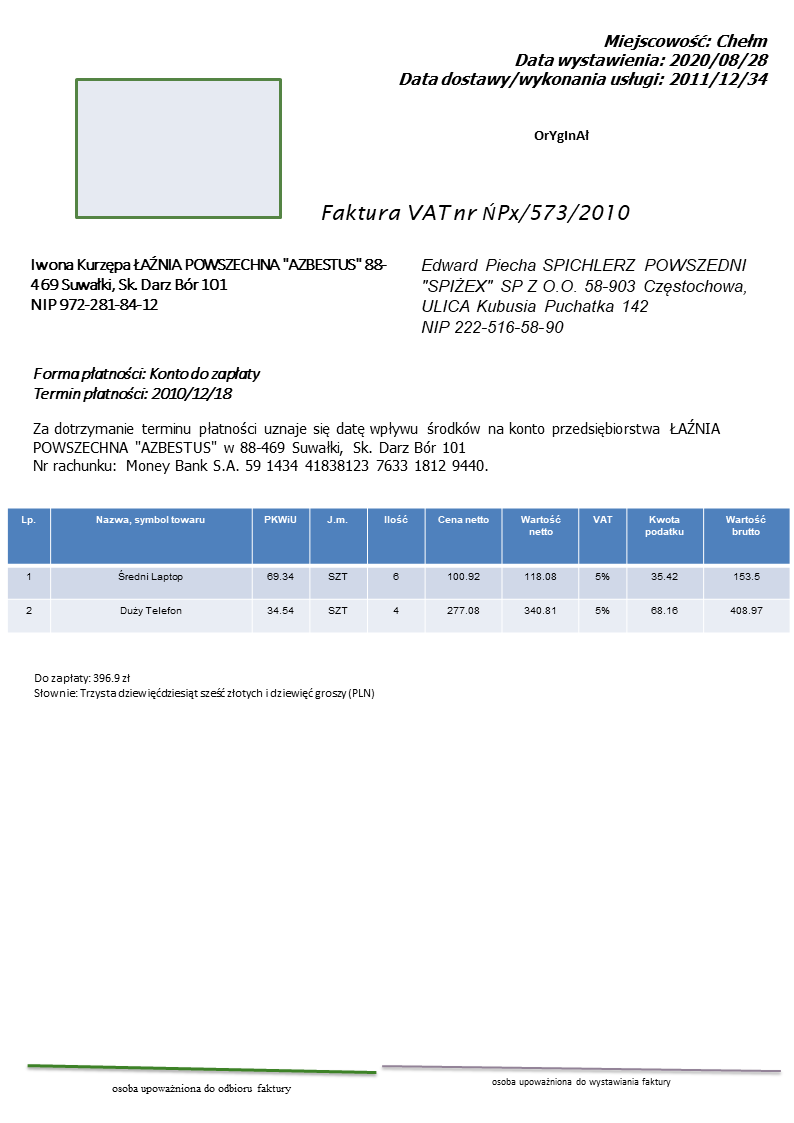Table: (5, 507, 791, 635)
TextBox: (30, 419, 722, 476), (418, 254, 751, 338), (396, 31, 771, 91), (26, 254, 388, 315), (31, 669, 377, 704), (30, 364, 266, 405), (319, 200, 632, 227), (108, 1080, 294, 1098), (490, 1073, 672, 1090), (532, 127, 591, 145)
